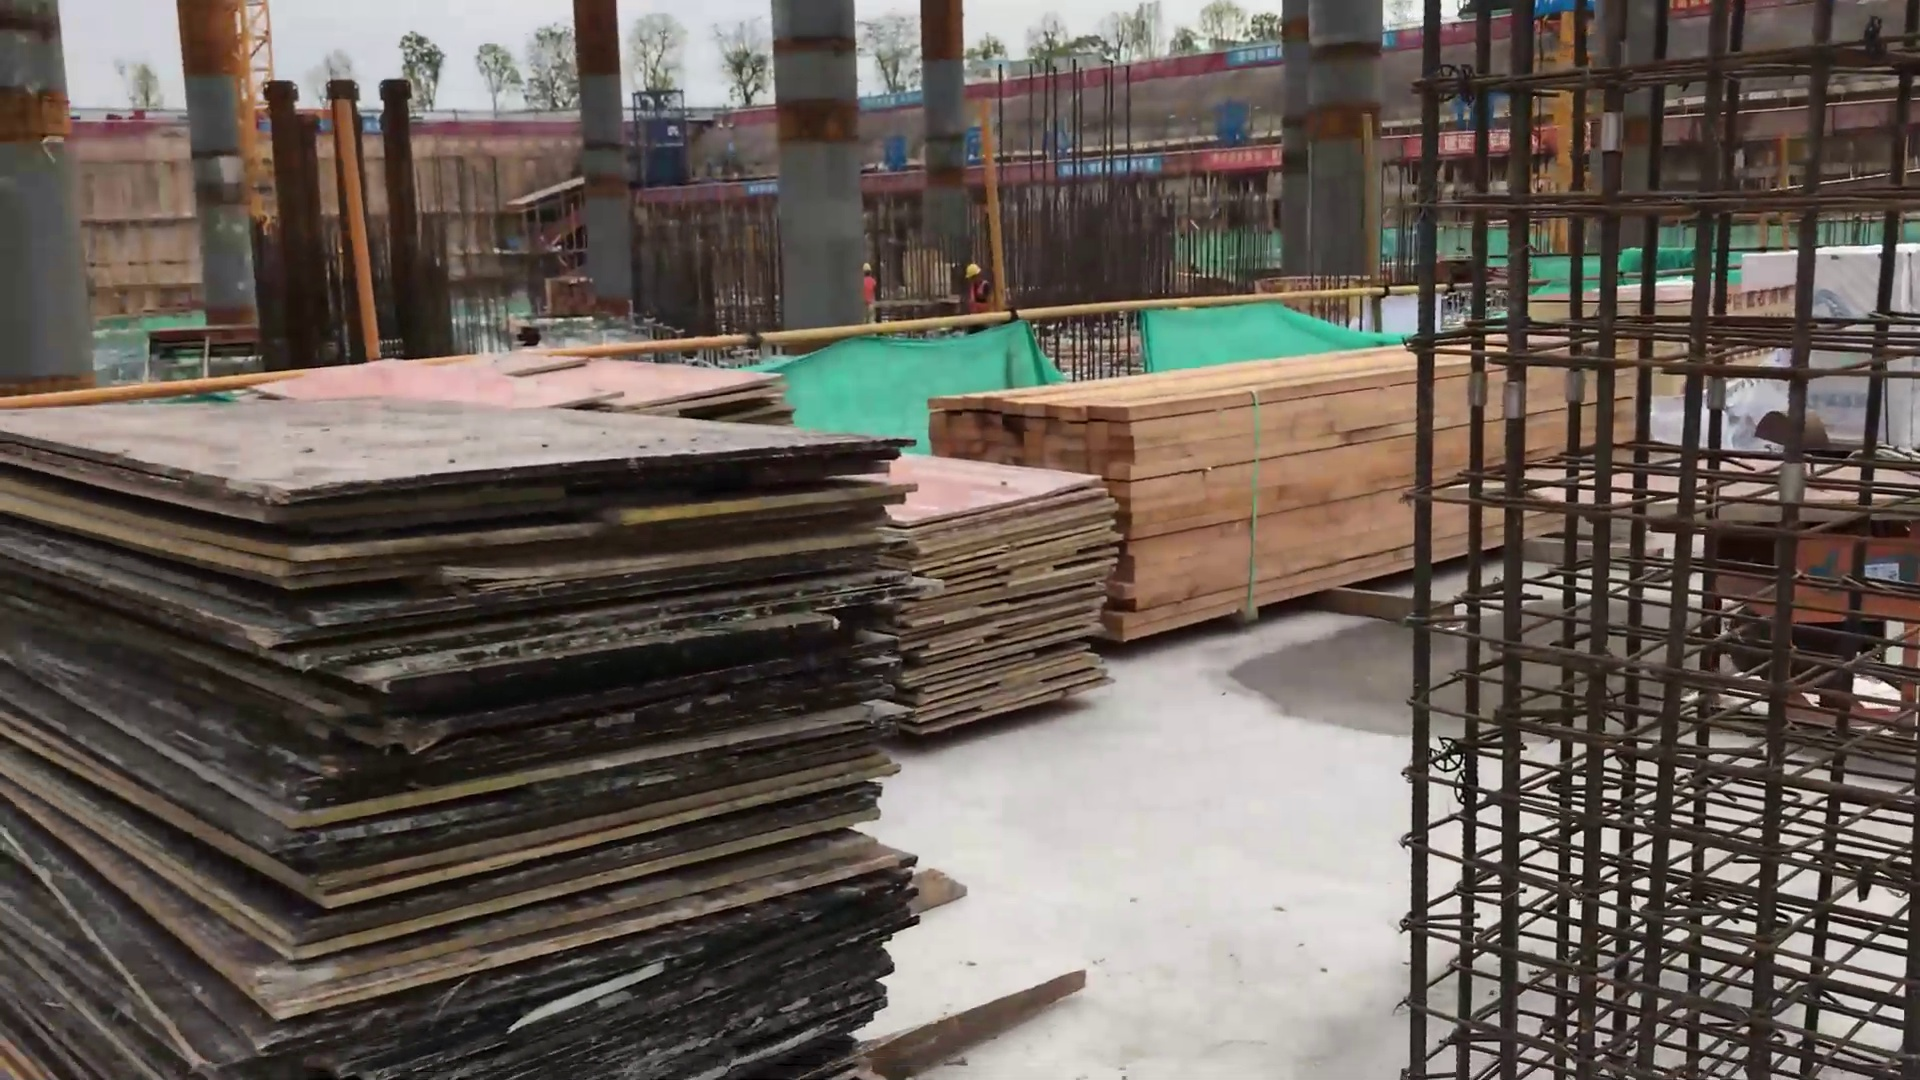board: (16, 409, 1029, 1080), (911, 459, 1094, 717)
cutter: (1508, 437, 1920, 729)
helmet: (965, 263, 985, 280), (864, 262, 874, 273)
person: (964, 264, 1000, 317), (861, 259, 882, 324)
vest: (967, 278, 991, 310), (860, 276, 874, 312)
wood: (949, 395, 1649, 599)
